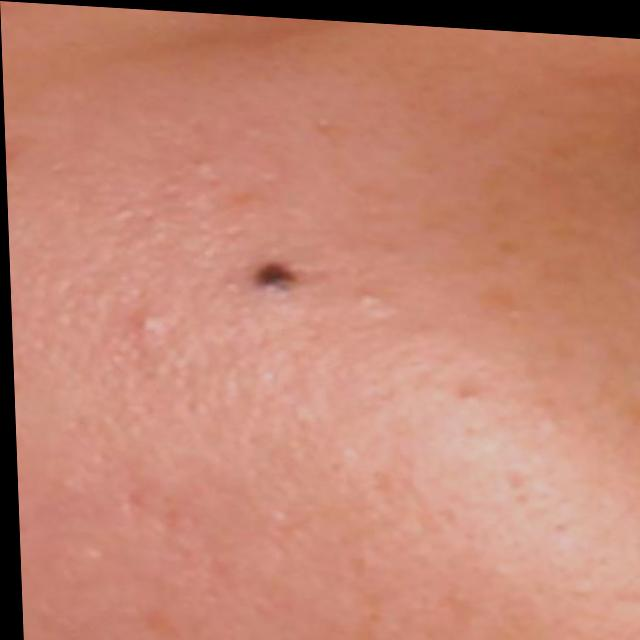dark spot: (237, 248, 302, 299)
